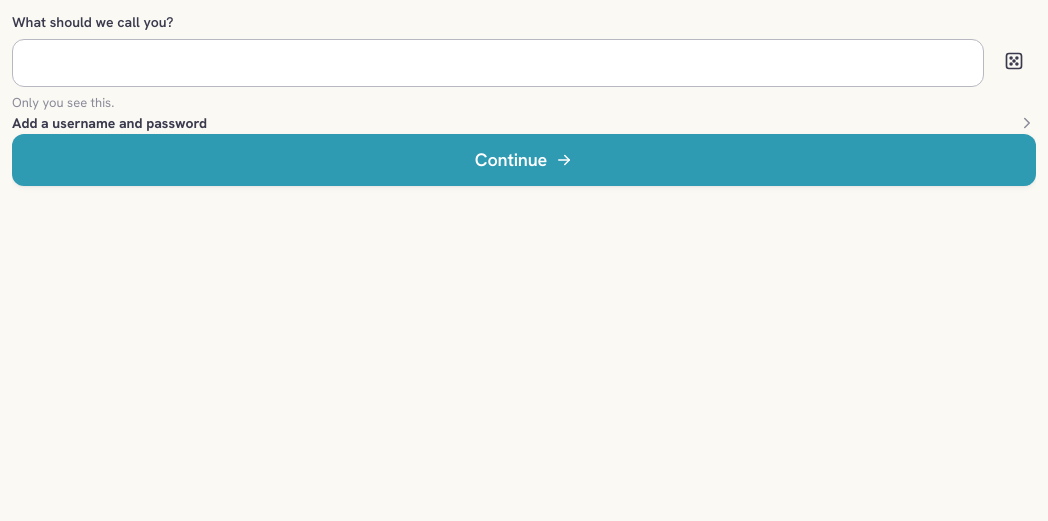
optional password at sign-up (doc 32) › hides the password fields until the disclosure is opened
Click the button "Add a username and password": (110, 122) [12, 112, 1036, 134]
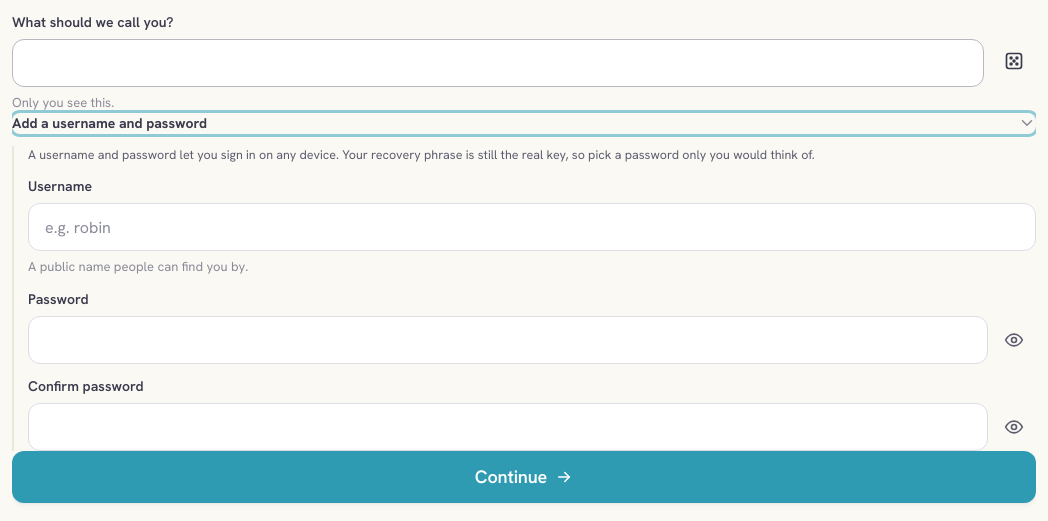
Expected: the field labelled "Username" is shown, [28, 203, 1036, 251]
Expected: the password field labelled "Password" is shown, [28, 316, 988, 364]
